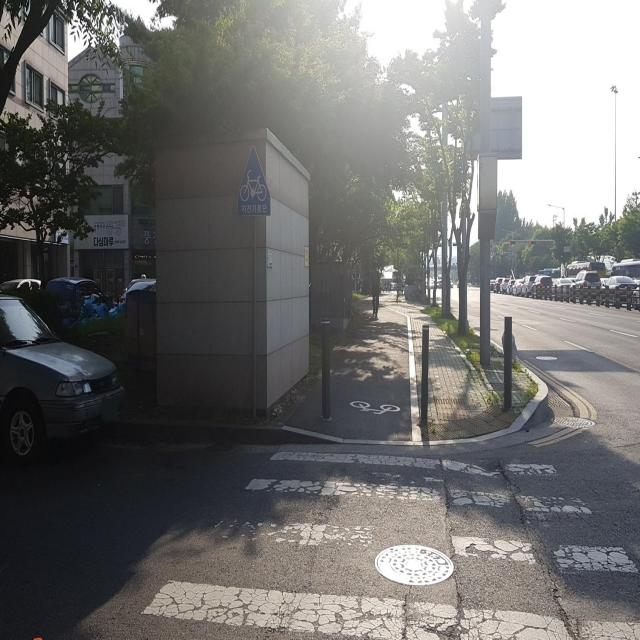횡단보도: (139, 451, 640, 640)
